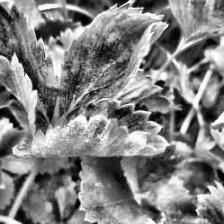Powdery Mildew Leaf: (11, 98, 169, 158), (0, 0, 60, 140)
